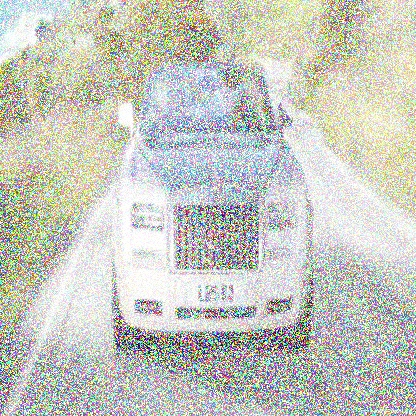Vehicle: (113, 64, 313, 349)
